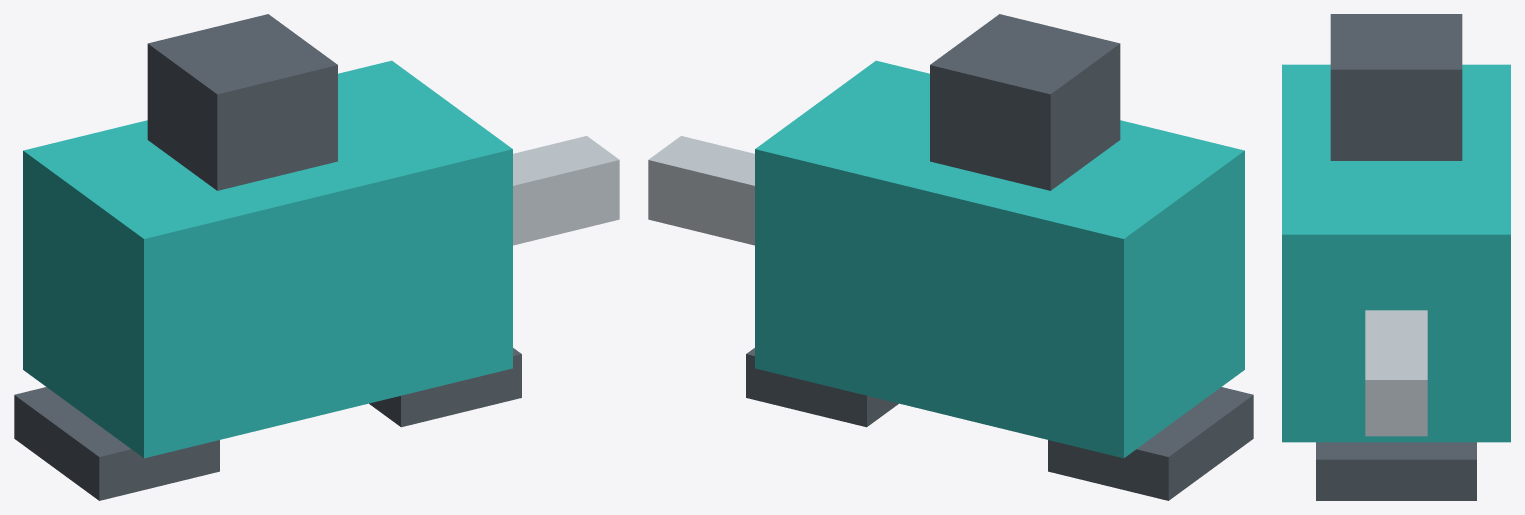
File: forjadata-industrial-motor.gltf
3 views of the same model, side by side, from view 1: azimuth 30°, elevation 25°; view 2: azimuth 150°, elevation 25°; view 3: azimuth 270°, elevation 25° (orthographic). The views are drawn at different scales.
Visible parts, largest first — view 1: Housing, Terminal box, Left foot, Shaft, Right foot; view 2: Housing, Terminal box, Left foot, Shaft, Right foot; view 3: Housing, Terminal box, Right foot, Shaft.
Boxes of the visible parts, left/top/right/bottom form: Housing: left=23, top=60, right=512, bottom=458; Terminal box: left=147, top=14, right=337, bottom=190; Left foot: left=14, top=387, right=219, bottom=500; Shaft: left=513, top=136, right=619, bottom=245; Right foot: left=369, top=348, right=521, bottom=427; Housing: left=755, top=60, right=1244, bottom=458; Terminal box: left=930, top=14, right=1120, bottom=190; Left foot: left=1048, top=387, right=1253, bottom=500; Shaft: left=648, top=136, right=754, bottom=245; Right foot: left=746, top=348, right=898, bottom=427; Housing: left=1282, top=64, right=1510, bottom=442; Terminal box: left=1330, top=14, right=1462, bottom=160; Right foot: left=1316, top=442, right=1476, bottom=500; Shaft: left=1365, top=310, right=1427, bottom=436.
Bounding box in the file's own units: 3.26 × 2.11 × 1.25.
